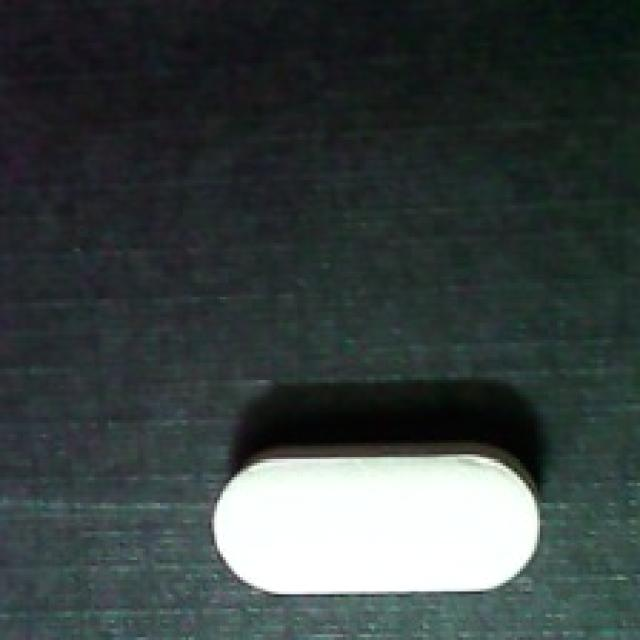no-defect: (203, 431, 543, 600)
